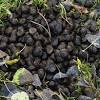Elk: (7, 12, 91, 63), (45, 65, 65, 84), (31, 61, 44, 72)
